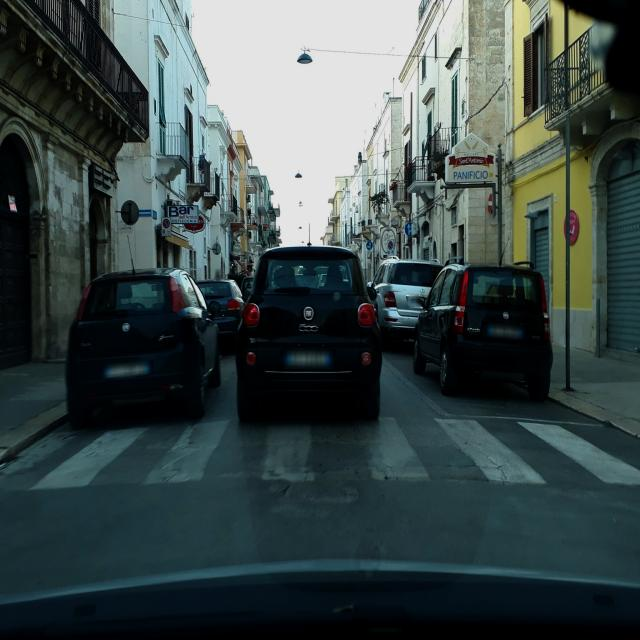car: (235, 230, 382, 422), (64, 261, 222, 428), (412, 258, 554, 402), (368, 258, 444, 347), (195, 278, 247, 352)
